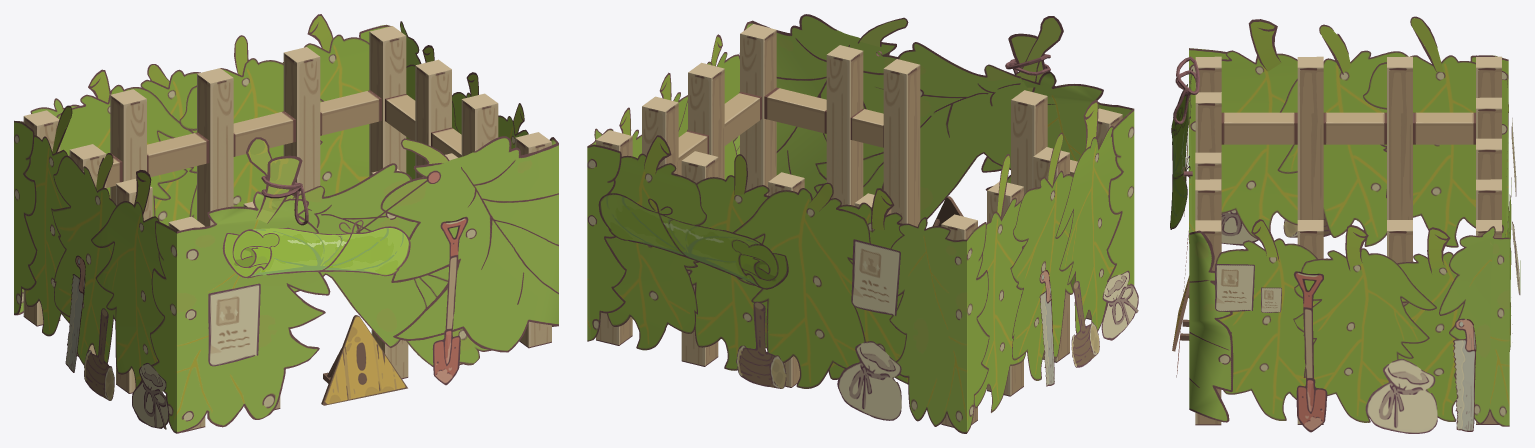
The model's file is Mesh_Home_Construction_34_SM.fbx.
3 renders of one model, left to right at view 1: azimuth 30°, elevation 25°; view 2: azimuth 150°, elevation 25°; view 3: azimuth 270°, elevation 25°, orthographic. The views are drawn at different scales.
Visible parts, largest first — view 1: Mesh_Home_Construction_34, Mesh_Home_Construction_34_P; view 2: Mesh_Home_Construction_34_P, Mesh_Home_Construction_34; view 3: Mesh_Home_Construction_34_P, Mesh_Home_Construction_34.
Part boxes in pixels (box(x1,y1,x2,y2)): Mesh_Home_Construction_34: box(14, 21, 558, 433); Mesh_Home_Construction_34_P: box(25, 14, 528, 429); Mesh_Home_Construction_34_P: box(598, 16, 1138, 420); Mesh_Home_Construction_34: box(587, 14, 1134, 433); Mesh_Home_Construction_34_P: box(1170, 16, 1520, 433); Mesh_Home_Construction_34: box(1172, 48, 1509, 426).
Size of the model in its own units: 431 by 287 by 329.
1 material, 1 textured.
